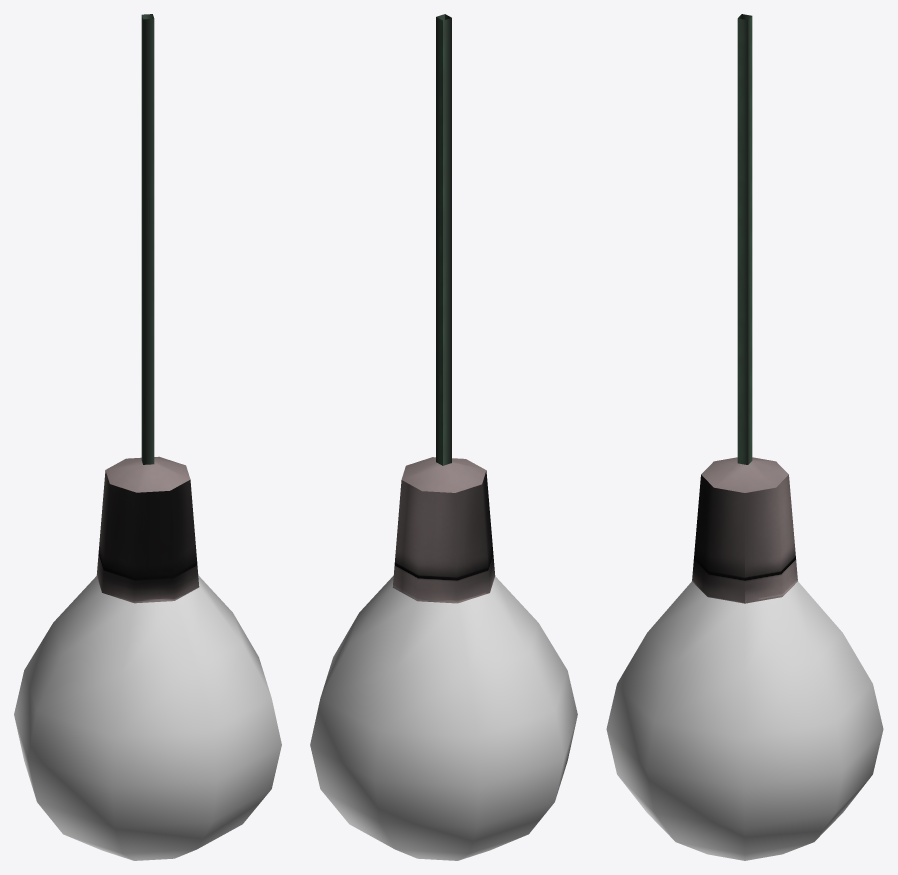
Rendered from LightBulb_01.fbx.
3 renders of one model, left to right at view 1: azimuth 30°, elevation 25°; view 2: azimuth 150°, elevation 25°; view 3: azimuth 270°, elevation 25°, orthographic.
Visible parts, largest first — view 1: LightBulb_01; view 2: LightBulb_01; view 3: LightBulb_01.
Boxes of the visible parts, x1=… form: LightBulb_01: x1=14, y1=14, x2=281, y2=860; LightBulb_01: x1=310, y1=14, x2=577, y2=860; LightBulb_01: x1=606, y1=14, x2=883, y2=860.
Bounding box in the file's own units: 15.41 × 50.96 × 15.41.
